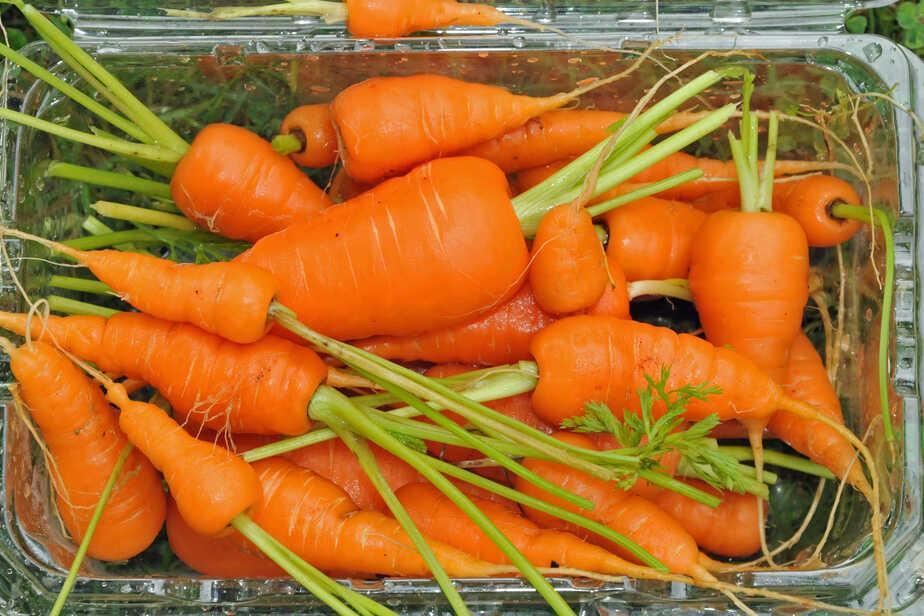carrot: (158, 126, 835, 556), (218, 164, 567, 360), (209, 455, 796, 570), (689, 130, 874, 483), (506, 315, 839, 453), (5, 338, 168, 559), (104, 371, 277, 541), (283, 77, 583, 167), (67, 218, 273, 344), (157, 121, 341, 248), (596, 180, 733, 307), (526, 192, 630, 322)
